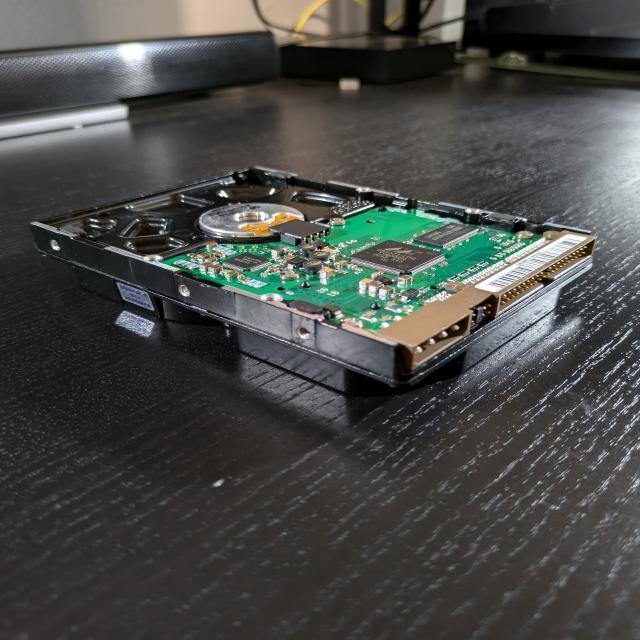DISK: (28, 165, 598, 396)
